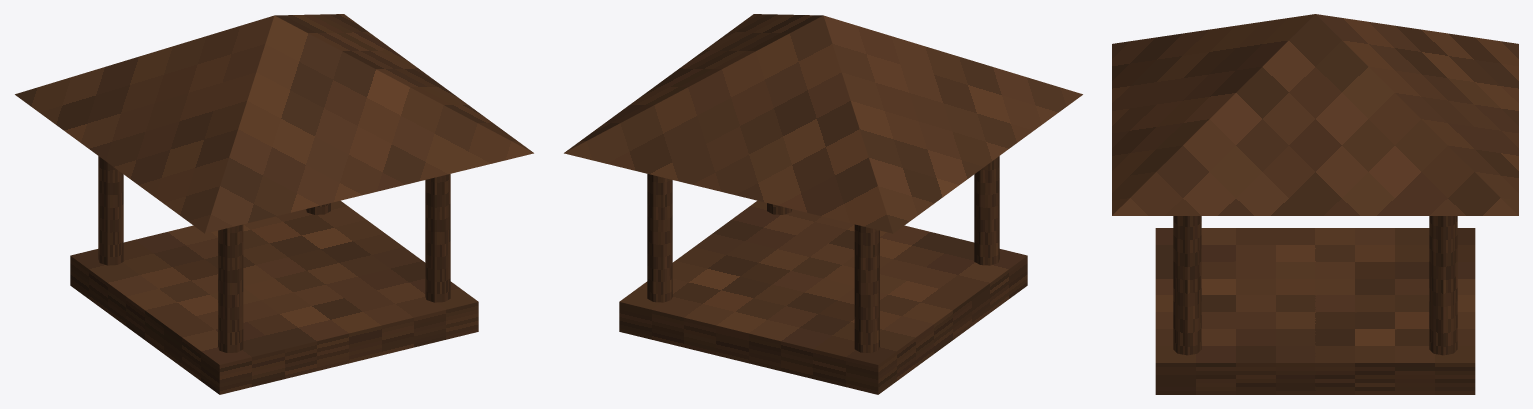
File: pavilion_10.glb
3 renders of one model, left to right at view 1: azimuth 30°, elevation 25°; view 2: azimuth 150°, elevation 25°; view 3: azimuth 270°, elevation 25°, orthographic. The views are drawn at different scales.
Visible parts, largest first — view 1: Roof, Floor, Column.002, Column, Column.001; view 2: Roof, Floor, Column.003, Column.001, Column; view 3: Roof, Floor, Column.002, Column.003.
Part boxes in pixels (box(x1,y1,x2,y2)): Roof: box(15, 14, 533, 233); Floor: box(70, 200, 478, 394); Column.002: box(425, 174, 450, 302); Column: box(218, 224, 243, 352); Column.001: box(98, 156, 123, 265); Roof: box(564, 14, 1082, 233); Floor: box(619, 200, 1027, 394); Column.003: box(647, 174, 672, 302); Column.001: box(854, 224, 879, 352); Column: box(974, 156, 999, 265); Roof: box(1112, 14, 1518, 215); Floor: box(1155, 228, 1475, 394); Column.002: box(1173, 216, 1201, 355); Column.003: box(1429, 216, 1457, 355).
Bounding box in the file's own units: 3.46 × 2.94 × 3.46.
1 material, 1 textured.
